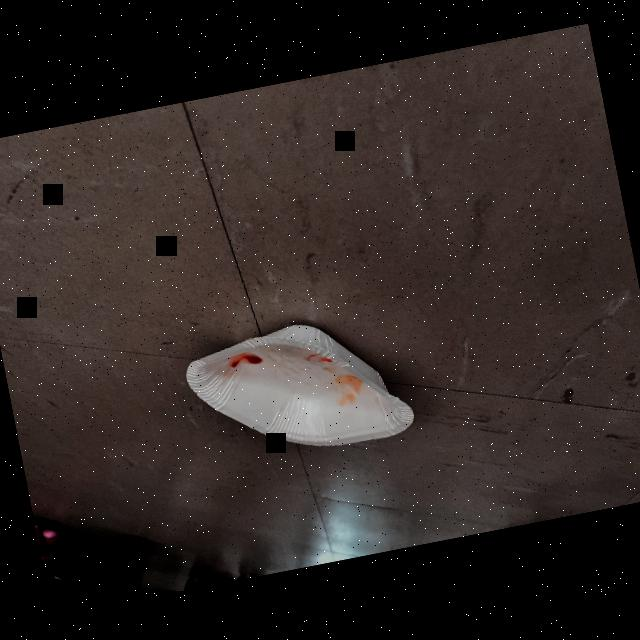cardboard_bowl: (154, 286, 427, 490)
